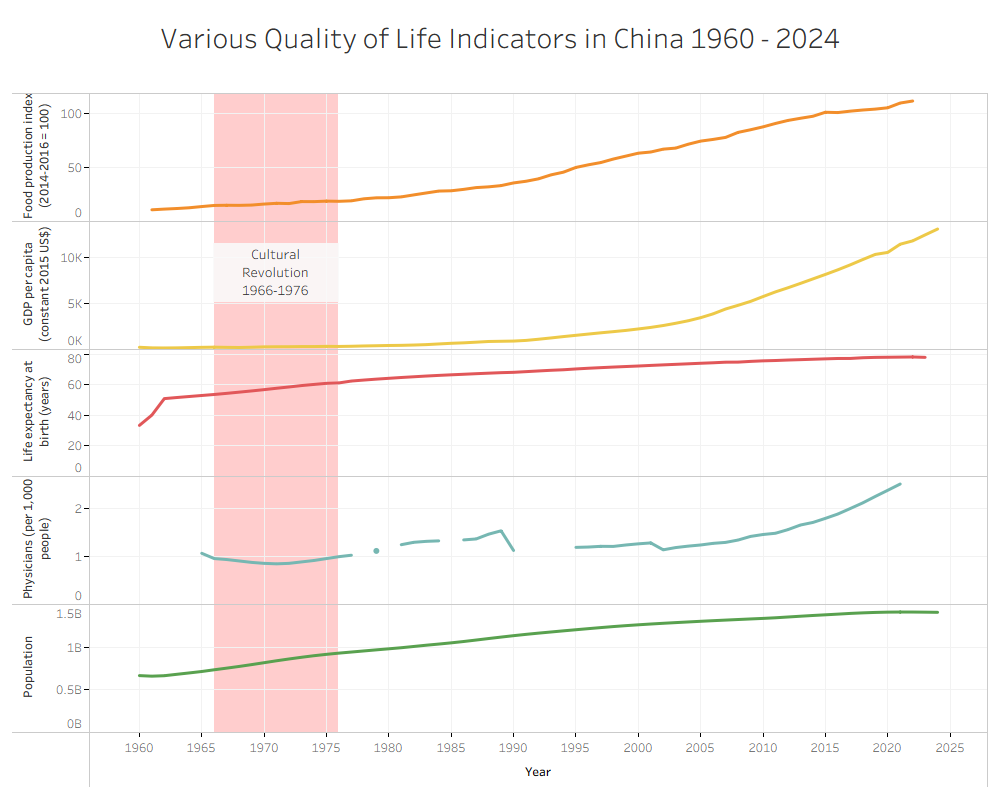

Layout of this report page (visuals, bound fields, positions):
{"tool":"tableau","page":{"name":"Dashboard 2","canvas":[1000,800],"ordinal":1},"visuals":[{"type":"worksheet","title":"Individual","mark":"Line","rows":["Food production index (2014-2016 = 100)","GDP per capita (constant 2015 US$)","Life expectancy at birth (years)","Physicians (per 1,000 people)","Population"],"cols":["Year"],"box":[8,8,984,784]}]}

Visuals, with their boxes in screenshot pixels (x1, y1, x2, y2), scaled from the page's 1000x800 canvas onto the 1000x800 screenshot:
"Individual" worksheet (Line marks): detection(8, 8, 992, 792)
